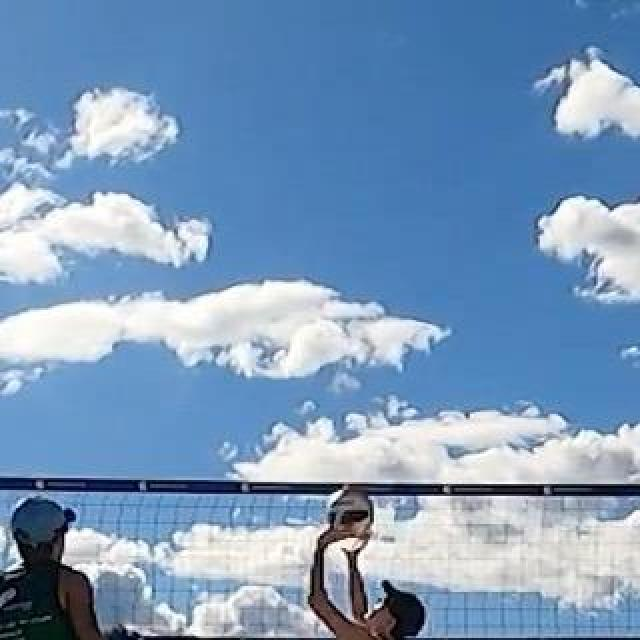volleyball: (328, 486, 374, 536)
